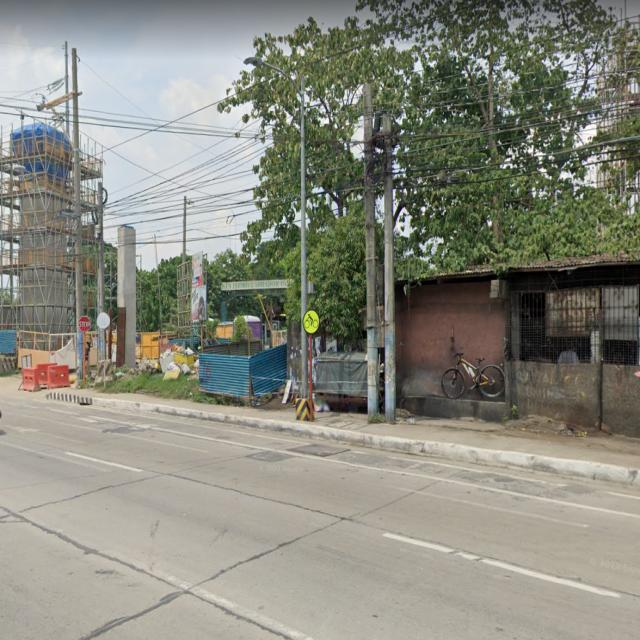bike lane: (300, 306, 325, 340)
stop: (74, 314, 94, 336)
